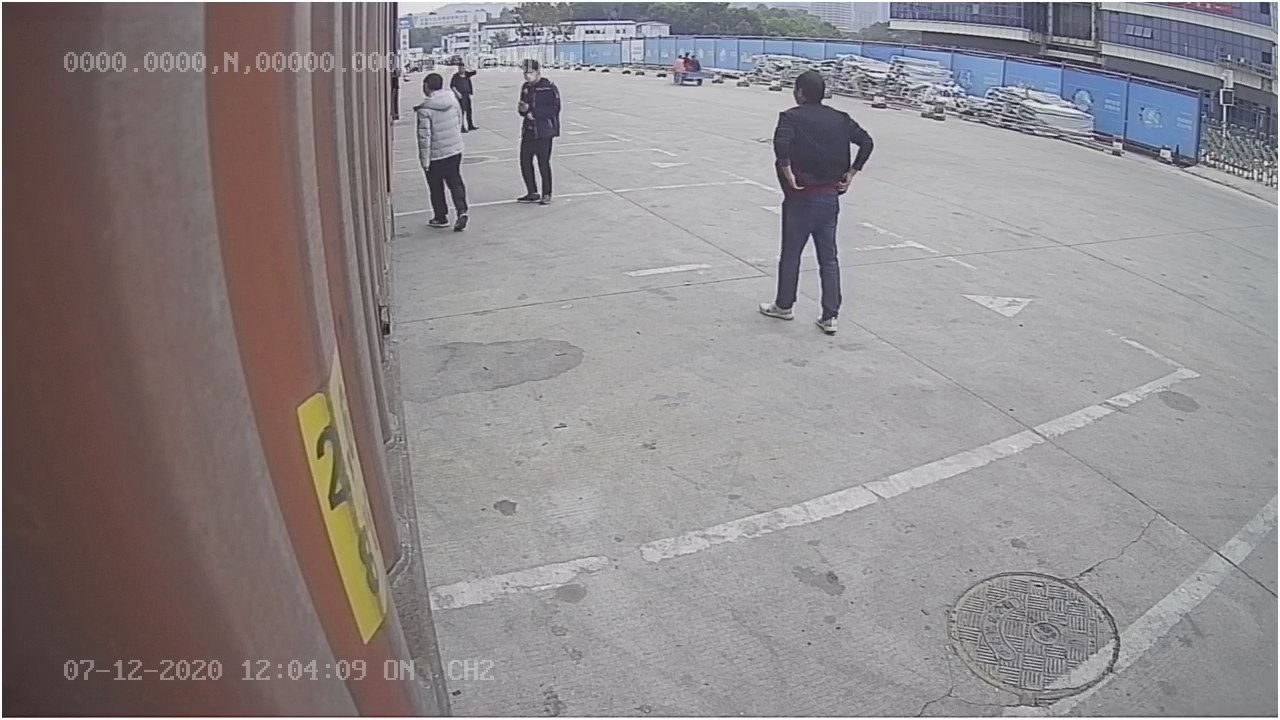person: (754, 68, 877, 337)
